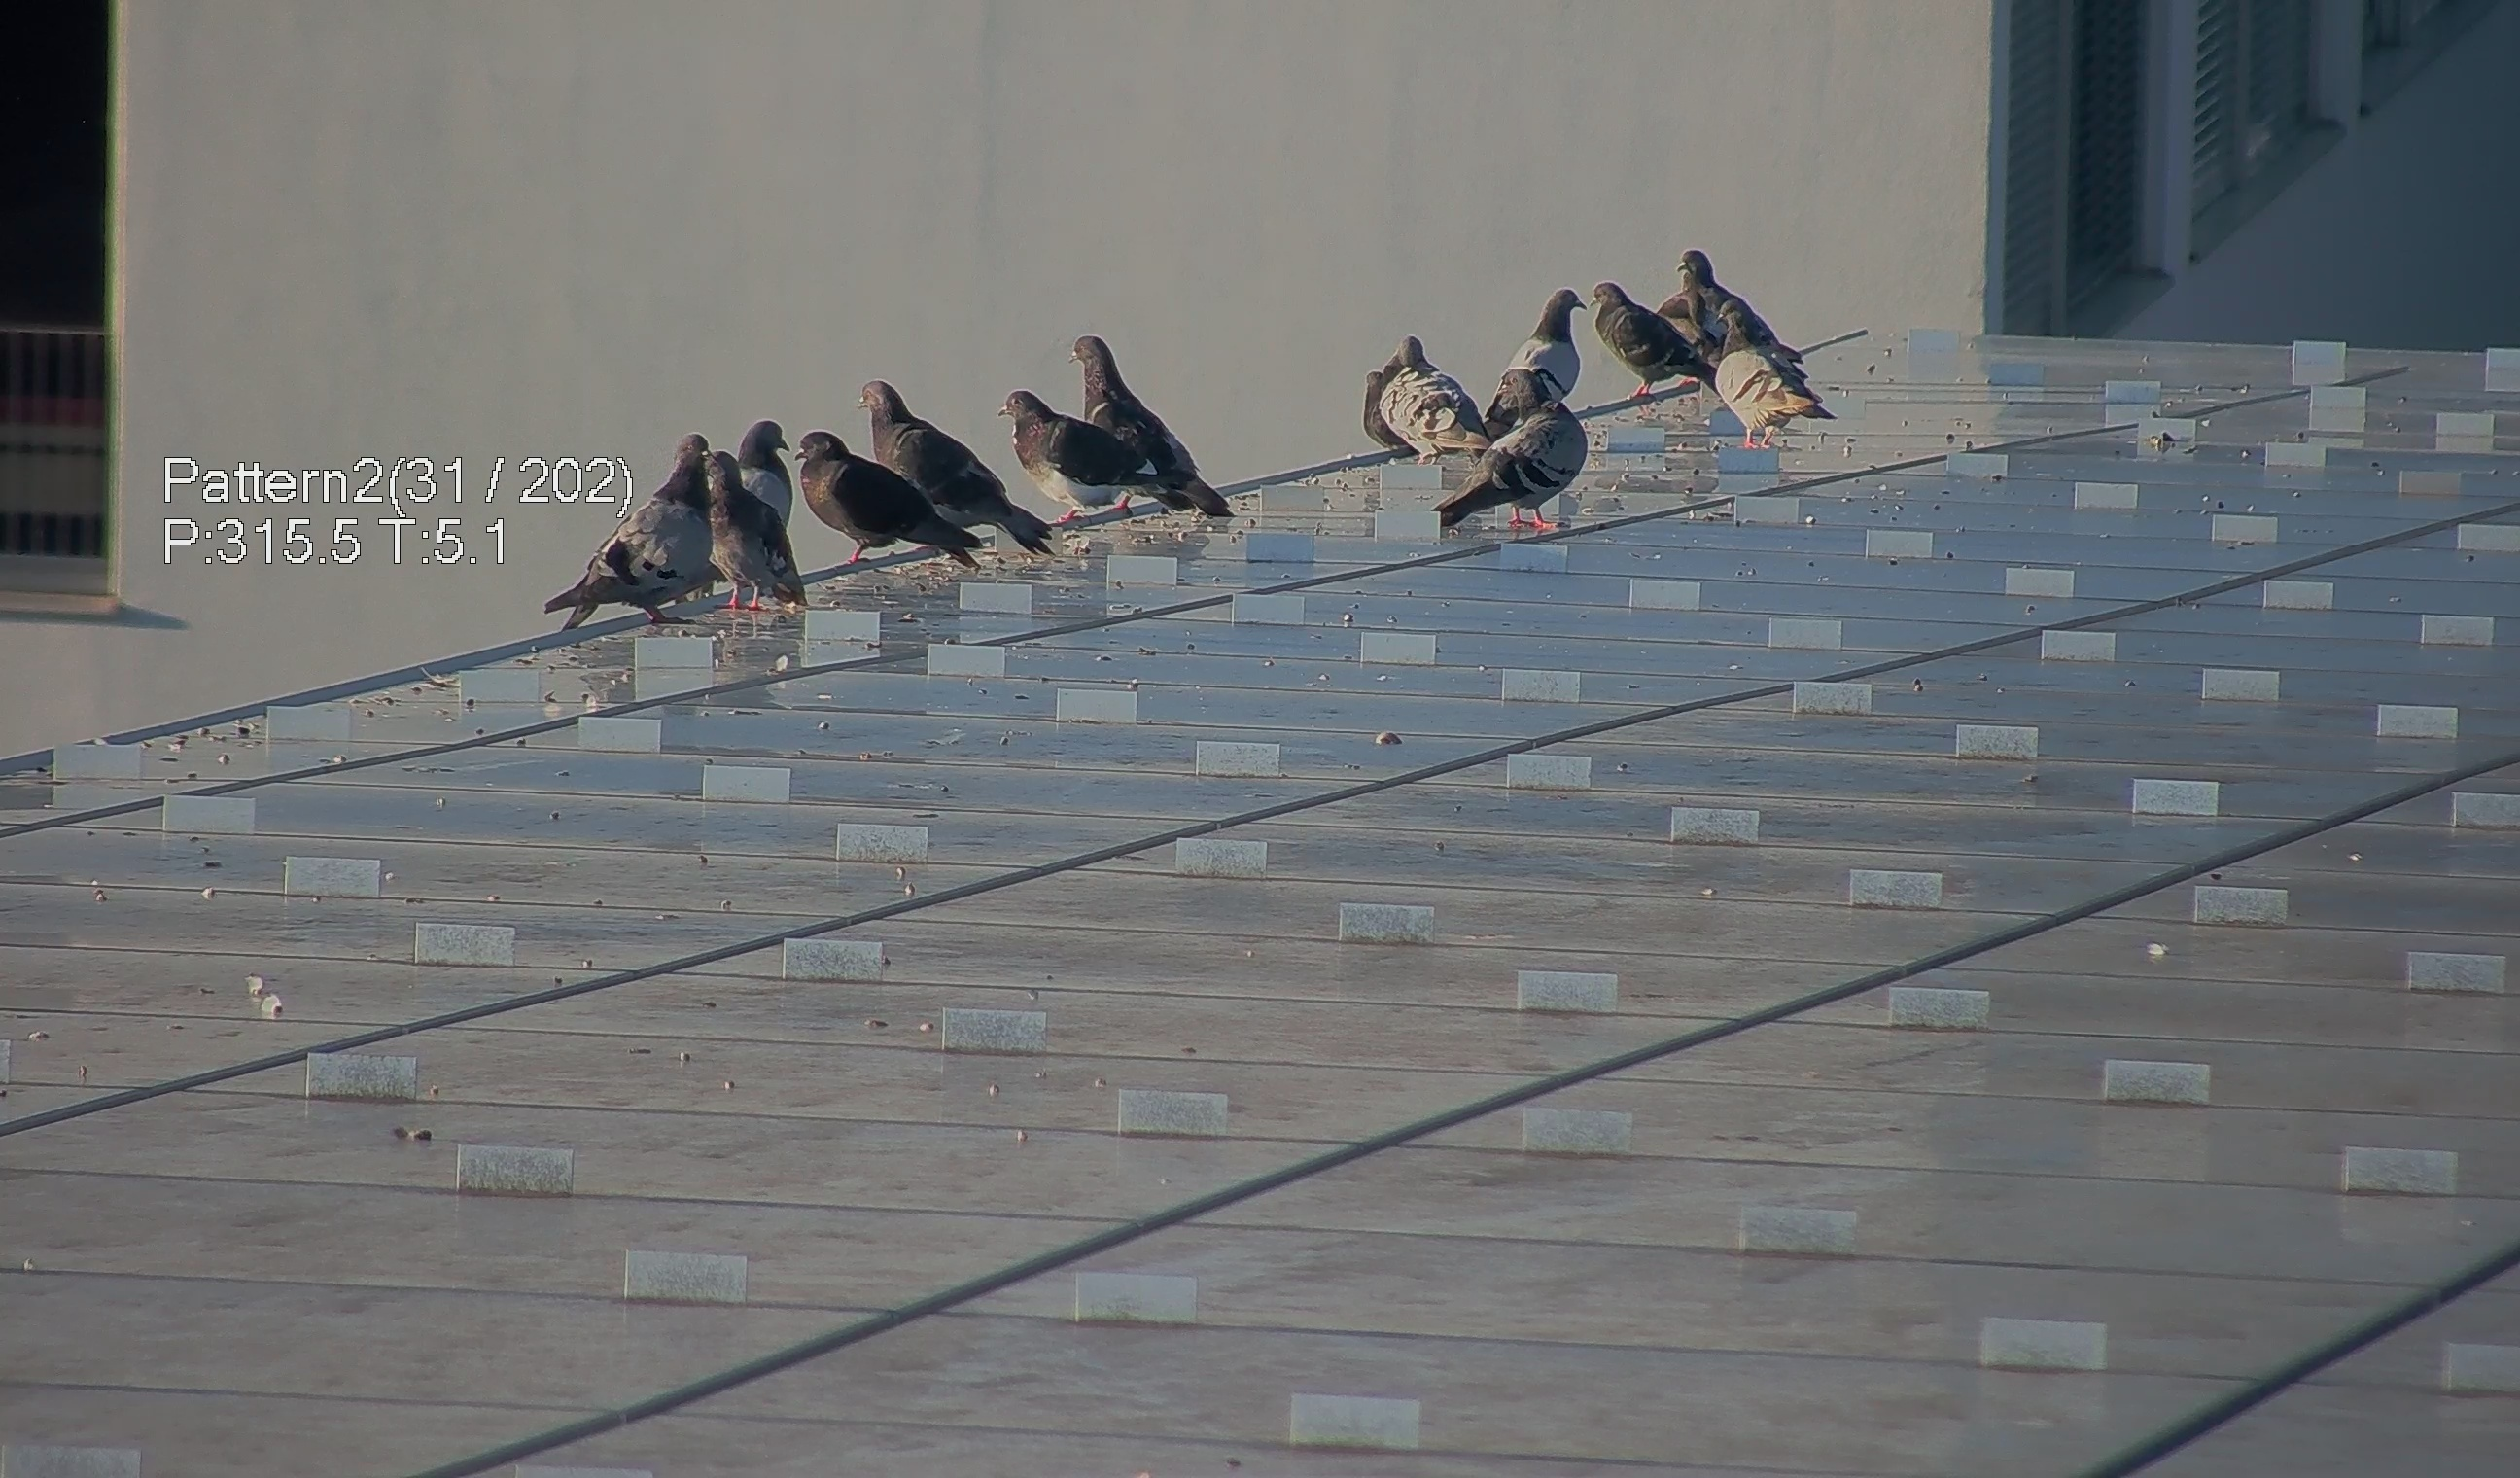Pigeon: (550, 421, 725, 640), (849, 382, 1059, 556), (1071, 320, 1235, 524), (790, 422, 976, 567), (994, 378, 1168, 528), (1446, 396, 1599, 531), (1716, 299, 1829, 456), (703, 445, 795, 632), (1588, 273, 1718, 399), (1377, 336, 1486, 470), (1489, 285, 1583, 406), (730, 408, 795, 523), (1665, 248, 1739, 348)
